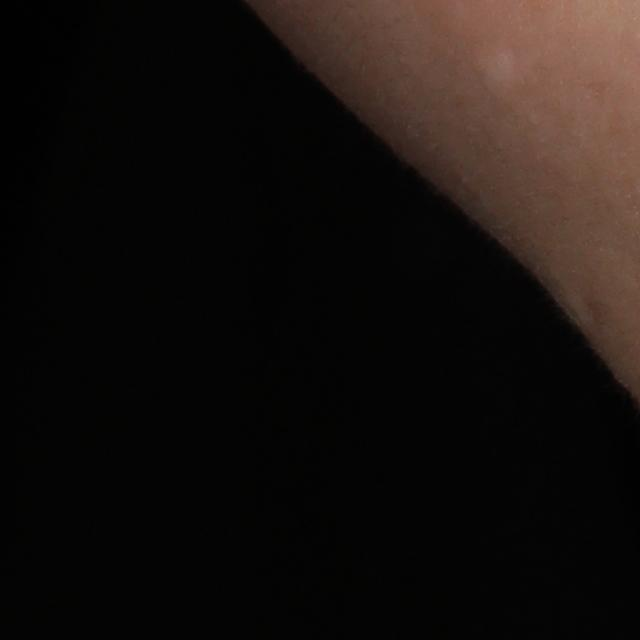hypertrophic_scar: (470, 45, 525, 102)
